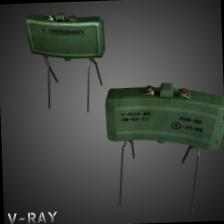MOH-50: (99, 77, 224, 161), (0, 4, 113, 74)
